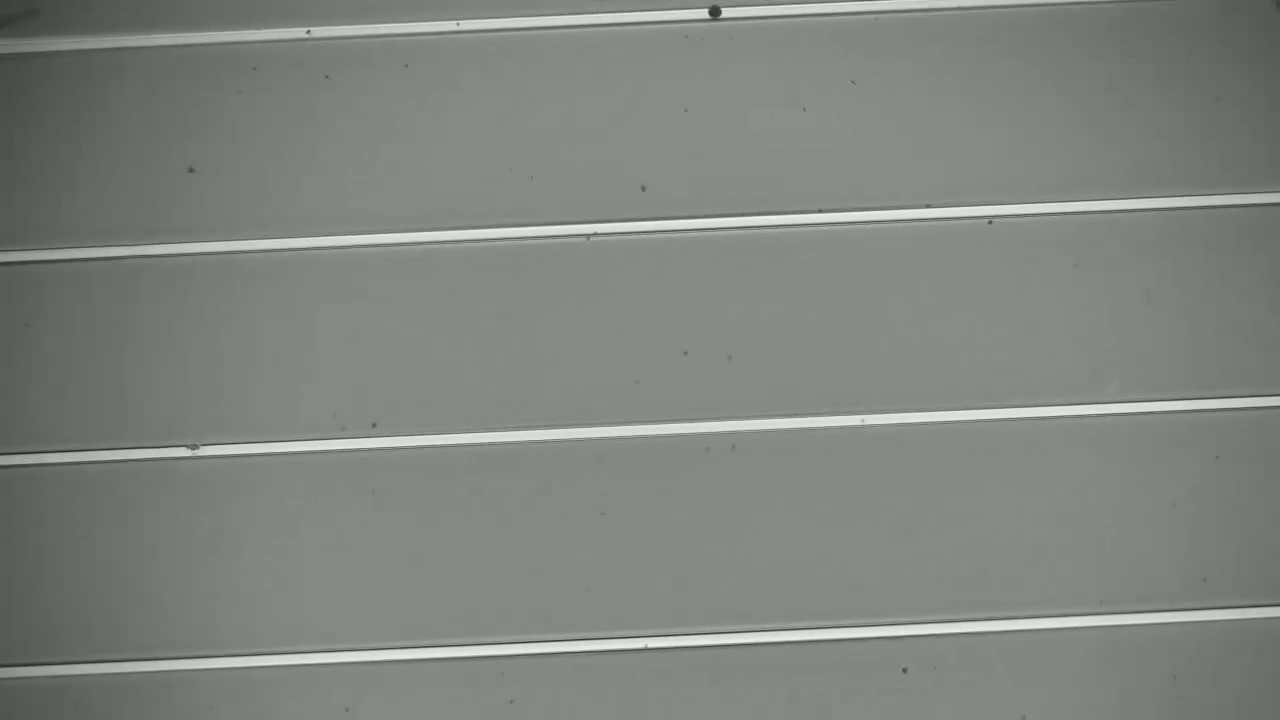stains_enbedded: (175, 436, 211, 471), (699, 1, 729, 32)
